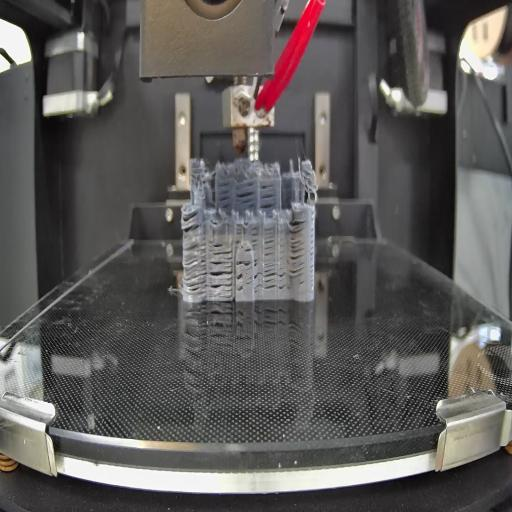cracks: (288, 215, 307, 280), (184, 241, 206, 297), (209, 258, 233, 304), (263, 262, 288, 292), (182, 206, 204, 232), (238, 179, 256, 207), (260, 181, 276, 211), (264, 224, 276, 259), (217, 180, 232, 208), (248, 221, 261, 247), (213, 239, 232, 256), (254, 260, 262, 296), (235, 272, 246, 295), (233, 222, 243, 243), (235, 258, 253, 268), (244, 248, 253, 253)
